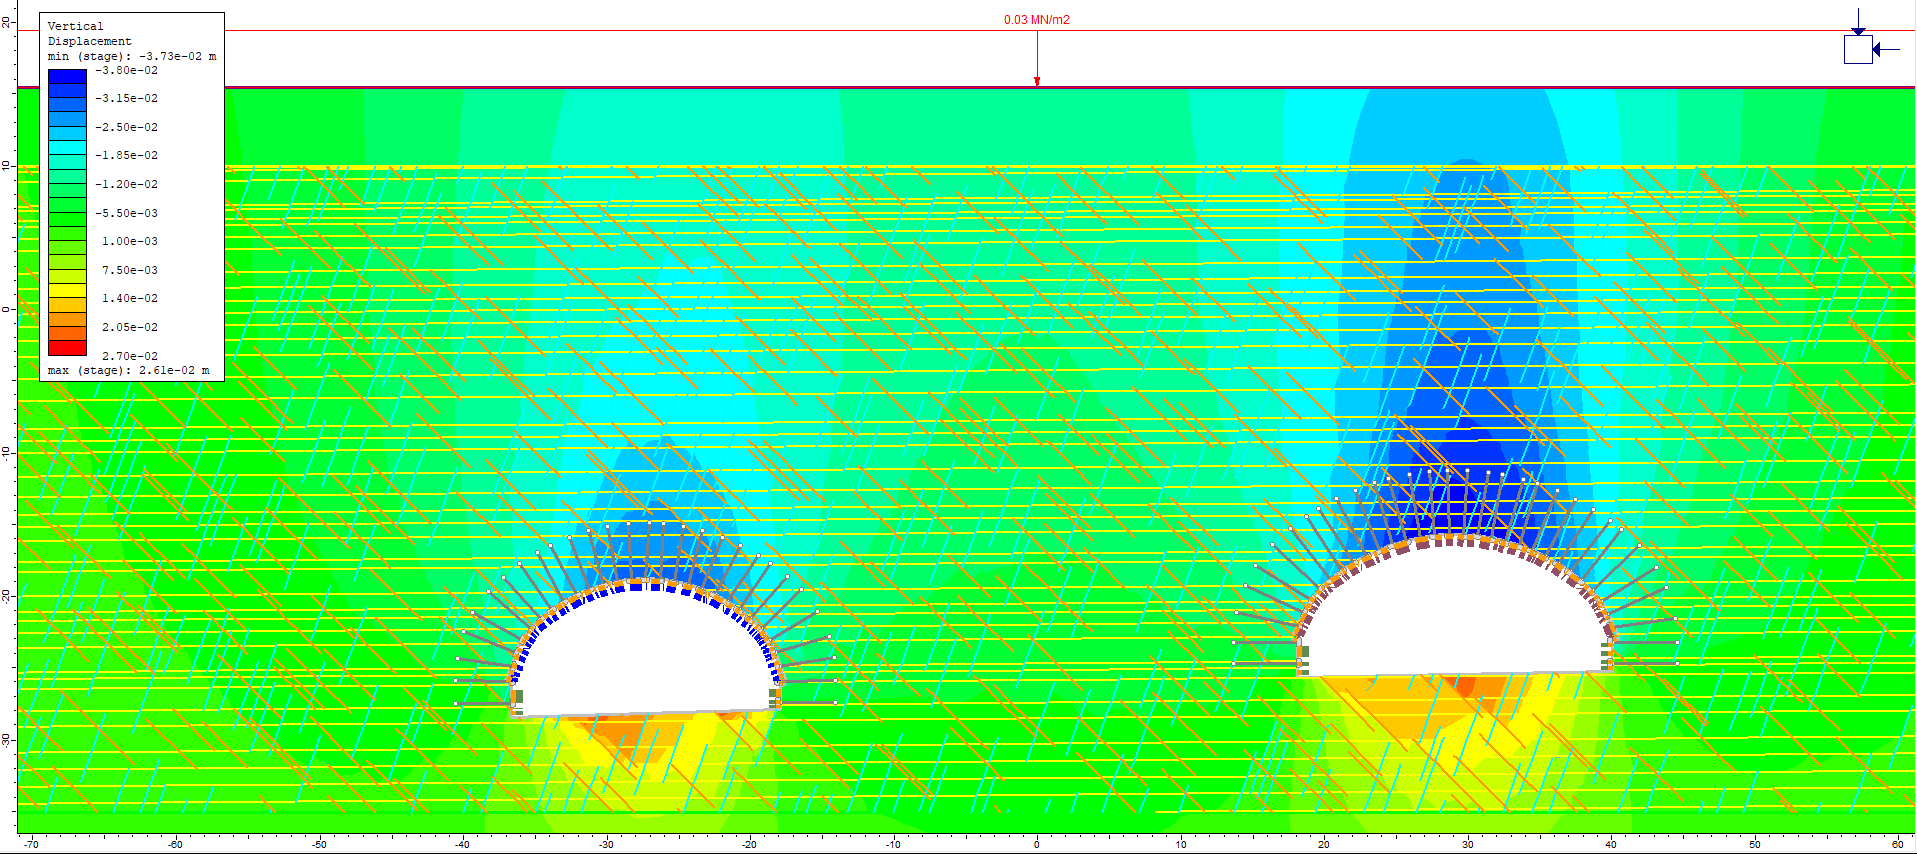crown: (1419, 505, 1498, 527), (614, 551, 677, 574)
label: (42, 11, 224, 384)
tunnel-opening: (1300, 531, 1615, 672), (504, 577, 787, 717)
